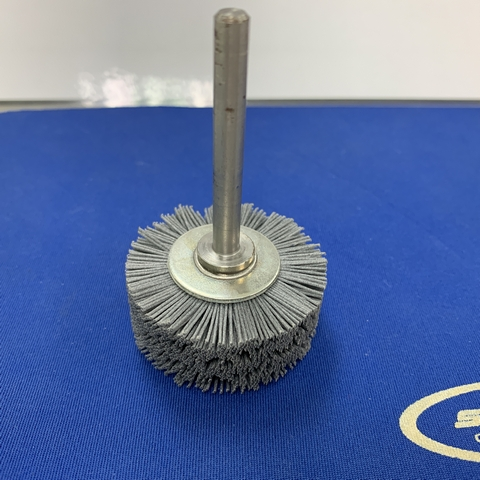Wheel Brush: (107, 1, 343, 398), (119, 3, 314, 423), (126, 5, 324, 389), (135, 113, 316, 360)
